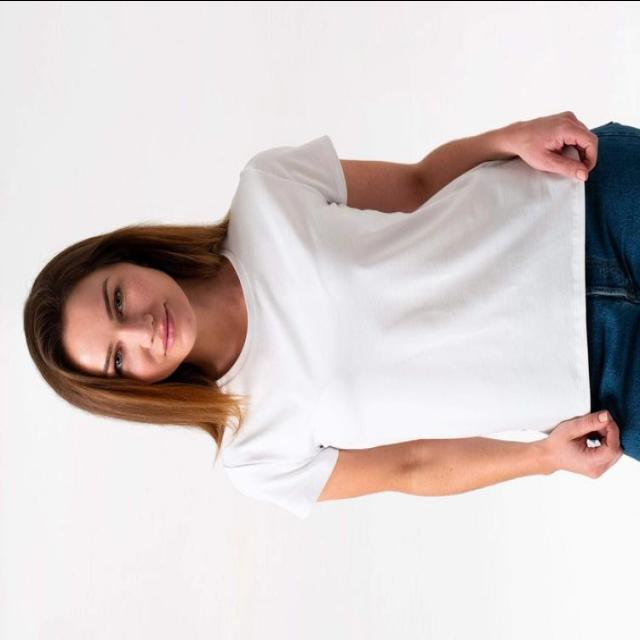shoulder: (211, 139, 319, 506)
